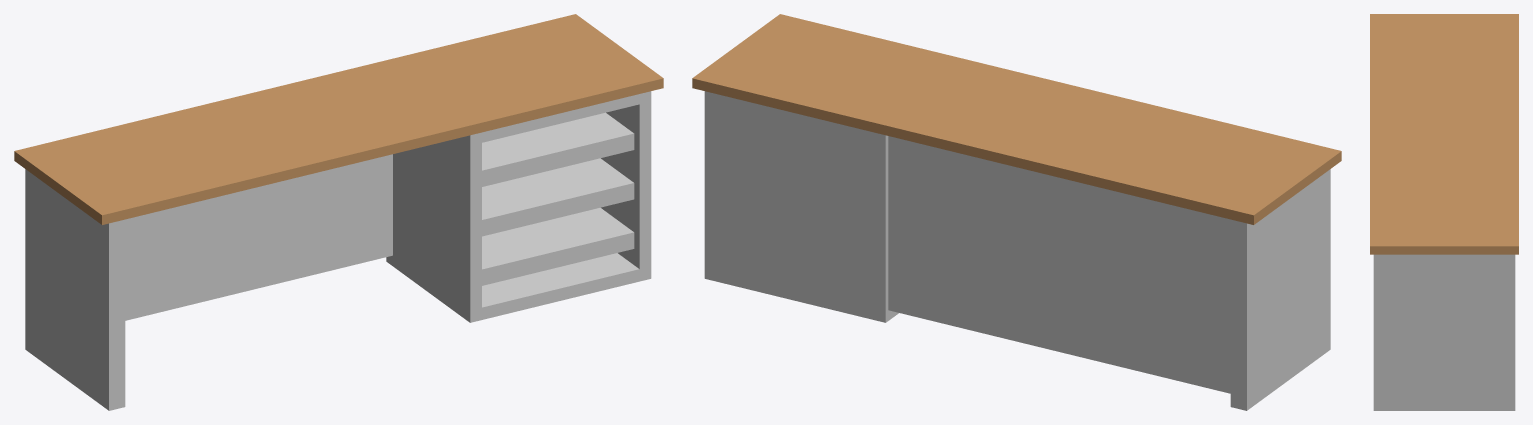
Rendered from Secretaria.fbx.
3 renders of one model, left to right at view 1: azimuth 30°, elevation 25°; view 2: azimuth 150°, elevation 25°; view 3: azimuth 270°, elevation 25°, orthographic. The views are drawn at different scales.
Parts seen in each view (by area): view 1: Secretaria; view 2: Secretaria; view 3: Secretaria.
Boxes of the visible parts, x1=… form: Secretaria: x1=14, y1=14, x2=663, y2=410; Secretaria: x1=692, y1=14, x2=1341, y2=410; Secretaria: x1=1370, y1=14, x2=1518, y2=410.
Bounding box in the file's own units: 310 × 105 × 84.
